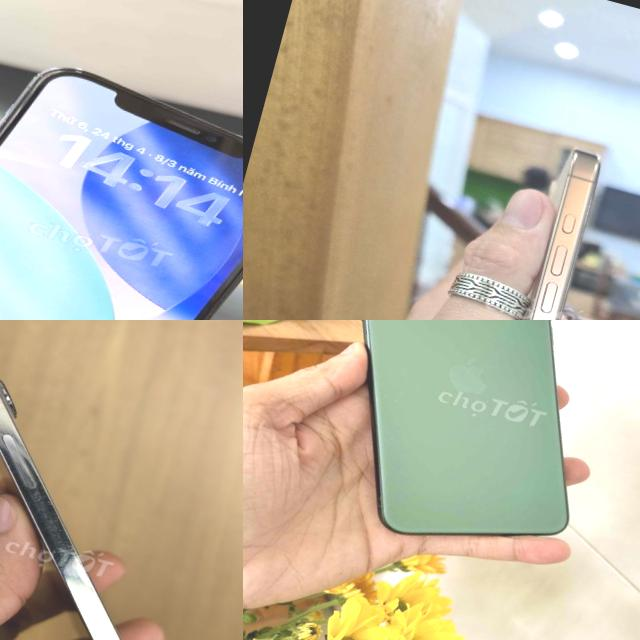gen_11: (258, 320, 640, 579)
gen_12_13: (0, 320, 243, 640), (0, 25, 243, 320)
gen_16: (437, 126, 640, 320)
